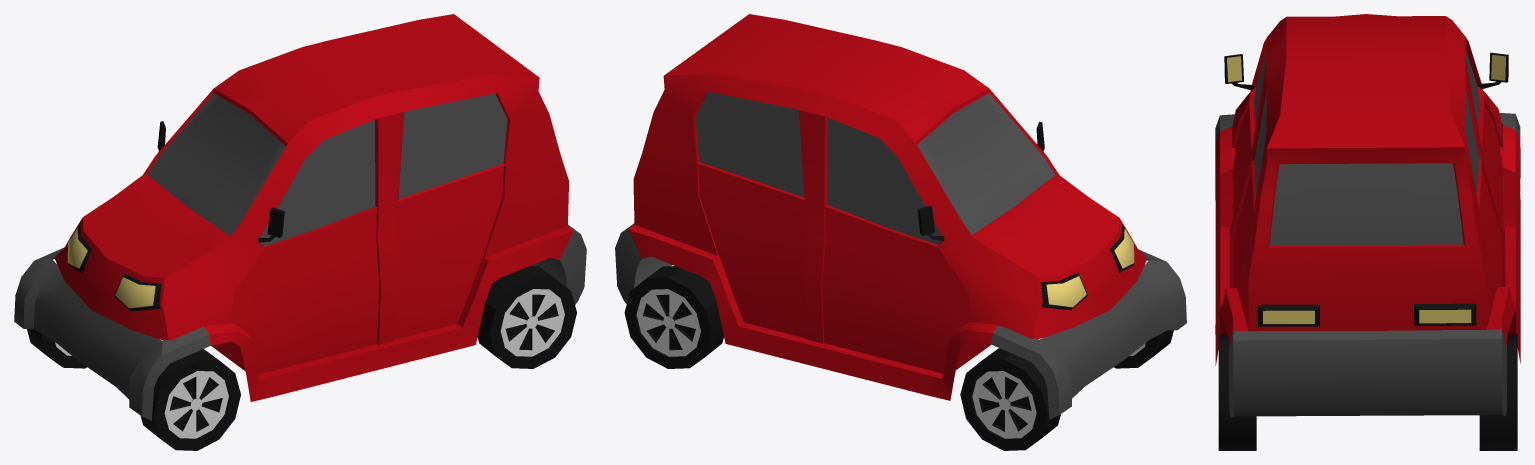
File: low poly red car.glb
3 views of the same model, side by side, from view 1: azimuth 30°, elevation 25°; view 2: azimuth 150°, elevation 25°; view 3: azimuth 270°, elevation 25° (orthographic). The views are drawn at different scales.
Parts seen in each view (by area): view 1: CarBody_Body, Bumper_Plane.003, Wheel, HeadLight, Mirror; view 2: CarBody_Body, Bumper_Plane.003, Wheel, HeadLight, Mirror; view 3: CarBody_Body, Bumper_Plane.003, Wheel, TailLight, Mirror.
Part boxes in pixels (box(x1,y1,x2,y2)): CarBody_Body: box(54, 14, 568, 374); Bumper_Plane.003: box(14, 225, 586, 420); Wheel: box(27, 266, 576, 450); HeadLight: box(67, 223, 161, 311); Mirror: box(157, 121, 284, 242); CarBody_Body: box(633, 14, 1146, 373); Bumper_Plane.003: box(615, 223, 1186, 419); Wheel: box(624, 266, 1173, 450); HeadLight: box(1041, 224, 1134, 310); Mirror: box(918, 121, 1044, 240); CarBody_Body: box(1229, 14, 1505, 331); Bumper_Plane.003: box(1215, 113, 1520, 417); Wheel: box(1218, 144, 1517, 450); TailLight: box(1257, 303, 1476, 326); Mirror: box(1224, 52, 1508, 90).
Bounding box in the file's own units: 2.07 × 1.24 × 1.04.
